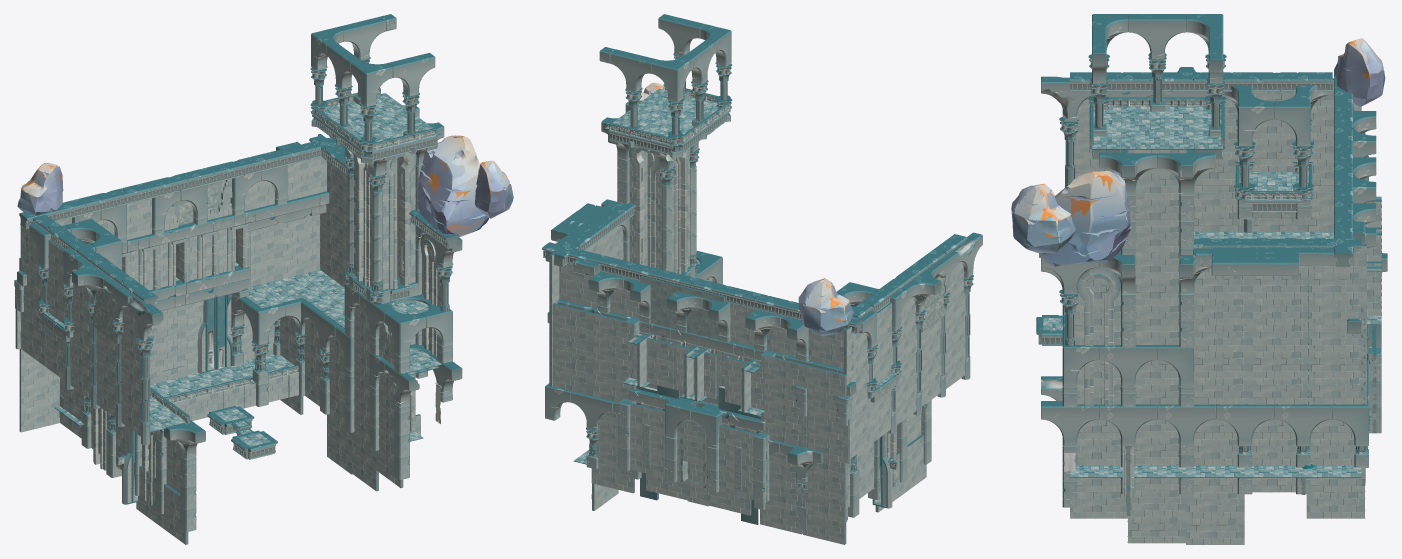
File: SM_L4_yi_ ji_1glb.glb
3 views of the same model, side by side, from view 1: azimuth 30°, elevation 25°; view 2: azimuth 150°, elevation 25°; view 3: azimuth 270°, elevation 25° (orthographic). The views are drawn at different scales.
Parts seen in each view (by area): view 1: TFD_Rock_Large_03A_LOD0, TFD_Wall_06A_LOD0_11.001, TFD_Rock_Large_06A_LOD0, TFD_Rock_Large_06A_LOD0_1, TFD_Wall_06A_LOD0_108, TFD_Wall_06A_LOD0_19, TFD_Wall_Decoration_01A_R_LOD0_7, TFD_Column_01A_Module_11_LOD0_36, TFD_Column_01A_Module_11_LOD0_37, TFD_Wall_06A_LOD0_96, TFD_Column_01A_Module_12_LOD0_19, TFD_Beam_11A_LOD0_7 (+72 smaller); view 2: TFD_Rock_Large_06A_LOD0, TFD_Wall_06A_LOD0_34, TFD_Wall_06A_LOD0_11.001, TFD_Wall_06A_LOD0_69, TFD_Wall_06A_LOD0_30.001, TFD_Wall_06A_LOD0_81, TFD_Wall_06A_LOD0_20, TFD_Wall_06A_LOD0_11, TFD_Wall_06A_LOD0_108, TFD_Wall_06A_LOD0_20.003, TFD_Wall_06A_LOD0_96, TFD_Wall_06A_LOD0_75.001 (+62 smaller); view 3: TFD_Rock_Large_03A_LOD0, TFD_Rock_Large_06A_LOD0_1, TFD_Wall_06A_LOD0_140.001, TFD_Wall_06A_LOD0_12.002, TFD_Wall_06A_LOD0_156.002, TFD_Wall_06A_LOD0_74.003, TFD_Wall_06A_LOD0_63.003, TFD_Wall_06A_LOD0_12.001, TFD_Wall_06A_LOD0_60.002, TFD_Wall_06A_LOD0_60.004, TFD_Rock_Large_06A_LOD0, TFD_Wall_06A_LOD0_121 (+70 smaller).
Part boxes in pixels (<box>): TFD_Rock_Large_03A_LOD0: <box>417,135,488,236</box>; TFD_Wall_06A_LOD0_11.001: <box>19,378,59,432</box>; TFD_Rock_Large_06A_LOD0: <box>17,162,63,215</box>; TFD_Rock_Large_06A_LOD0_1: <box>475,160,513,218</box>; TFD_Wall_06A_LOD0_108: <box>280,231,319,279</box>; TFD_Wall_06A_LOD0_19: <box>287,157,326,200</box>; TFD_Wall_Decoration_01A_R_LOD0_7: <box>197,297,216,373</box>; TFD_Column_01A_Module_11_LOD0_36: <box>351,60,392,106</box>; TFD_Column_01A_Module_11_LOD0_37: <box>384,310,426,356</box>; TFD_Wall_06A_LOD0_96: <box>250,240,279,286</box>; TFD_Column_01A_Module_12_LOD0_19: <box>387,53,435,96</box>; TFD_Beam_11A_LOD0_7: <box>212,150,283,181</box>; TFD_Rock_Large_06A_LOD0: <box>798,278,854,335</box>; TFD_Wall_06A_LOD0_34: <box>591,313,633,367</box>; TFD_Wall_06A_LOD0_11.001: <box>803,491,846,544</box>; TFD_Wall_06A_LOD0_69: <box>552,303,592,357</box>; TFD_Wall_06A_LOD0_30.001: <box>806,410,849,463</box>; TFD_Wall_06A_LOD0_81: <box>803,364,846,417</box>; TFD_Wall_06A_LOD0_20: <box>761,355,804,407</box>; TFD_Wall_06A_LOD0_11: <box>760,483,802,534</box>; TFD_Wall_06A_LOD0_108: <box>552,348,591,395</box>; TFD_Wall_06A_LOD0_20.003: <box>631,335,674,388</box>; TFD_Wall_06A_LOD0_96: <box>591,357,633,402</box>; TFD_Wall_06A_LOD0_75.001: <box>803,453,846,501</box>; TFD_Rock_Large_03A_LOD0: <box>1040,171,1131,266</box>; TFD_Rock_Large_06A_LOD0_1: <box>1011,183,1075,252</box>; TFD_Wall_06A_LOD0_140.001: <box>1250,351,1308,404</box>; TFD_Wall_06A_LOD0_12.002: <box>1308,351,1366,404</box>; TFD_Wall_06A_LOD0_156.002: <box>1250,298,1308,351</box>; TFD_Wall_06A_LOD0_74.003: <box>1186,492,1244,544</box>; TFD_Wall_06A_LOD0_63.003: <box>1127,490,1186,543</box>; TFD_Wall_06A_LOD0_12.001: <box>1194,351,1249,404</box>; TFD_Wall_06A_LOD0_60.002: <box>1194,298,1249,351</box>; TFD_Wall_06A_LOD0_60.004: <box>1308,298,1366,351</box>; TFD_Rock_Large_06A_LOD0: <box>1334,38,1385,106</box>; TFD_Wall_06A_LOD0_121: <box>1135,199,1179,252</box>.
Size of the model in its own units: 70.27 by 78 by 51.63.
3 materials, 2 textured.
